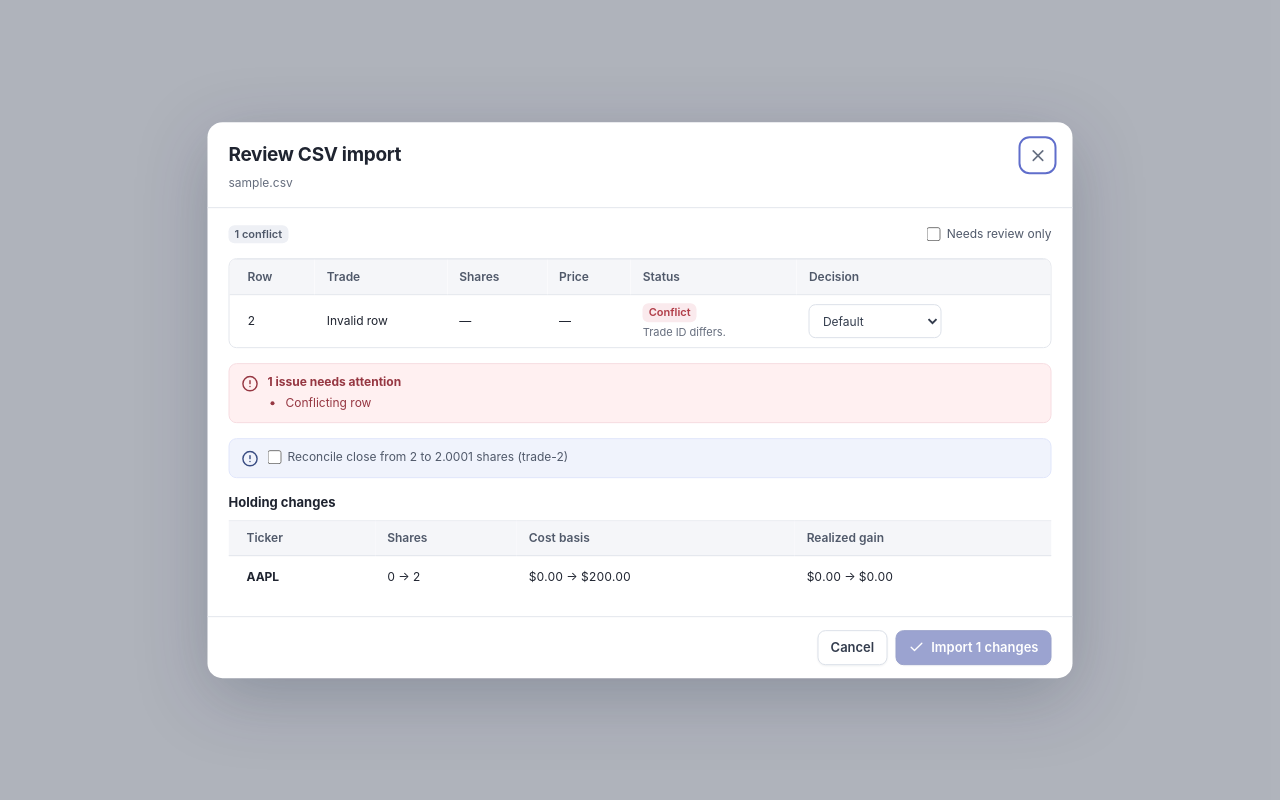
desktop interactions › requires CSV conflict resolution and explicit rounding confirmation
Later steps or results of the test are not shown.
Check: the button "Import 1 changes" is disabled, box [895, 630, 1052, 665]
Step 1. Select "Replace existing" in the dropdown named "Decision for row 2" → (875, 321), box [809, 304, 942, 338]
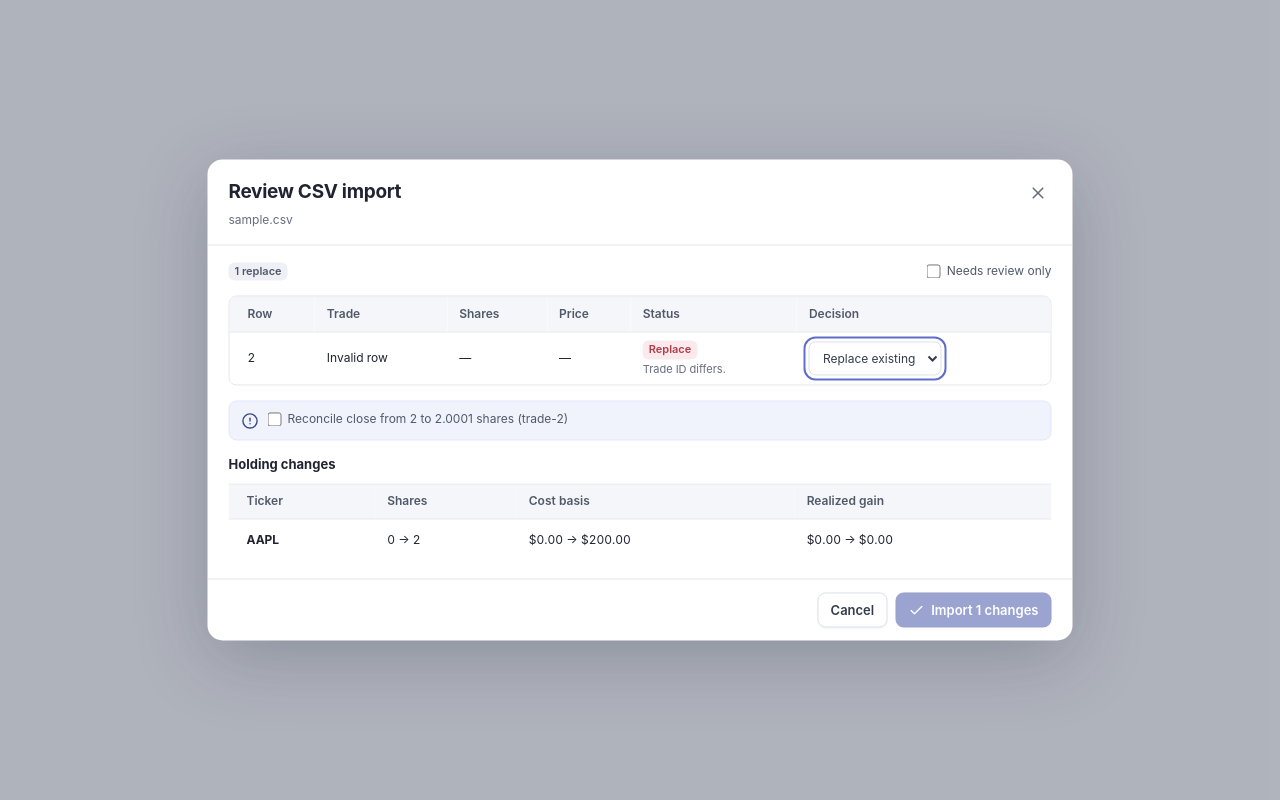
Check: the button "Import 1 changes" is disabled, box [895, 592, 1052, 628]
Check: the list item "Conflicting row" is gone
Step 2. Click the checkbox labelled "Reconcile close from 2 to 2.0001 shares (trade-2)" → (274, 420), box [268, 413, 282, 427]
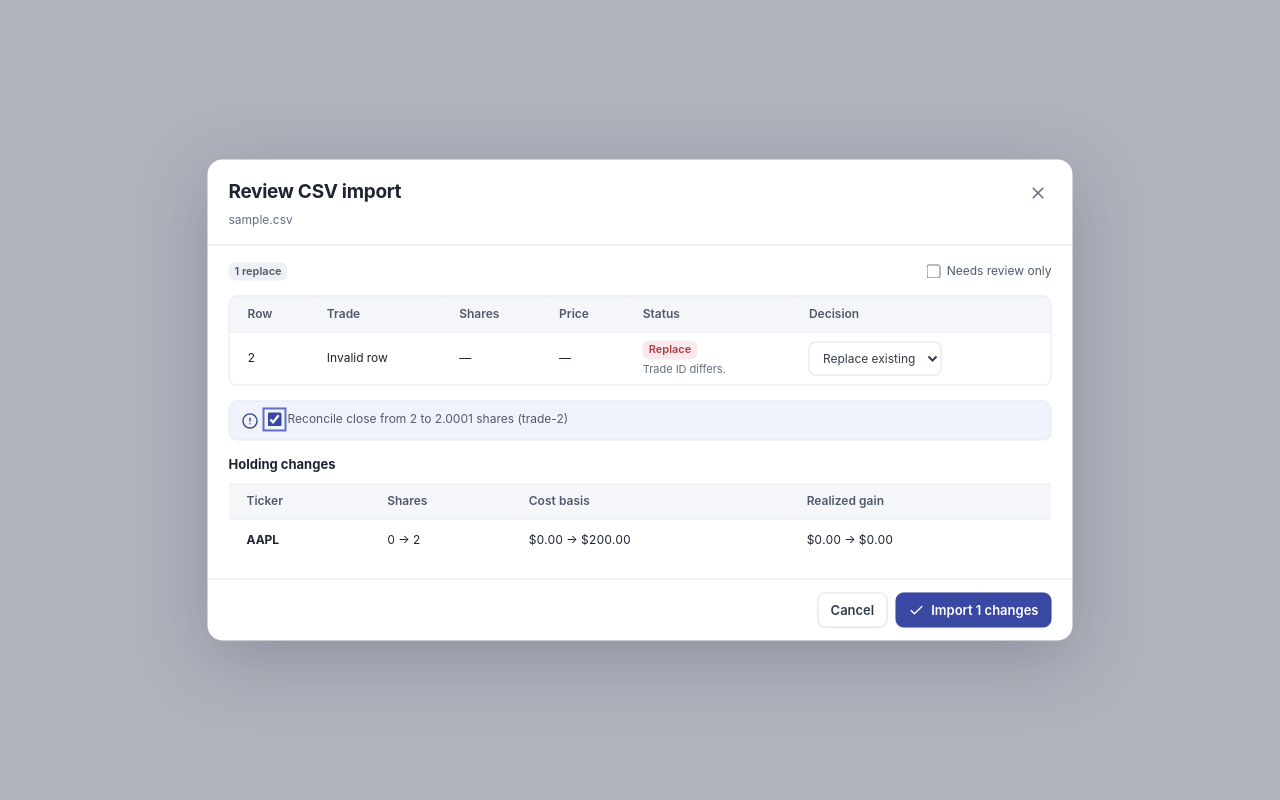
Check: the button "Import 1 changes" is enabled, box [895, 592, 1052, 628]
